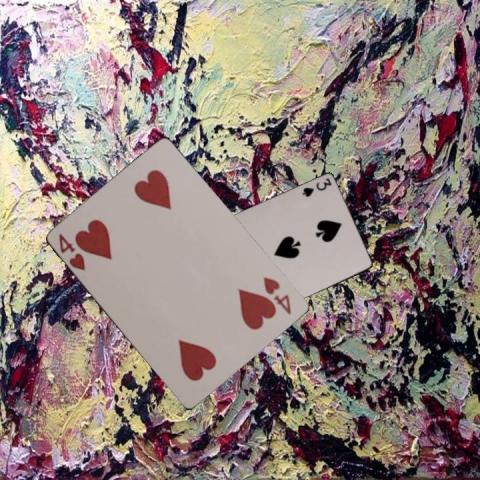3s: (299, 175, 333, 199)
4h: (261, 273, 293, 317), (56, 230, 88, 272)
